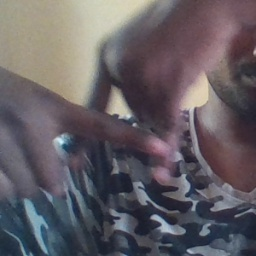H: (59, 57, 198, 203)
